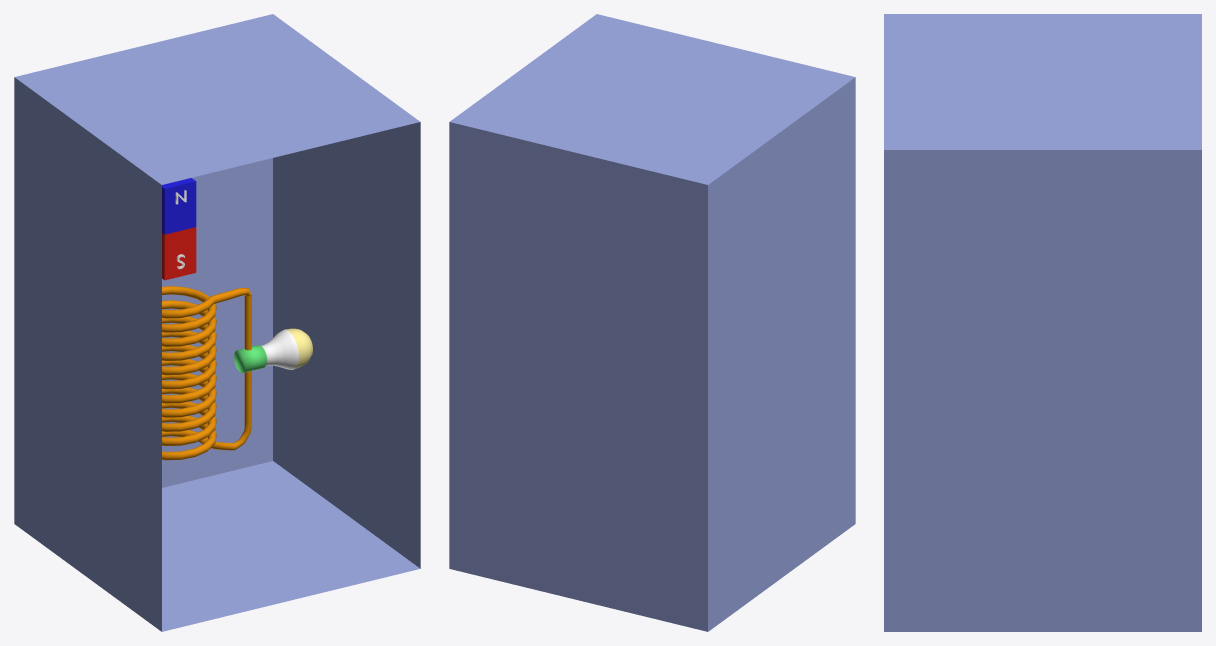
Rendered from coilBake.gltf.
The picture shows the model from 3 angles, left to right: view 1: azimuth 30°, elevation 25°; view 2: azimuth 150°, elevation 25°; view 3: azimuth 270°, elevation 25°; orthographic projection. The views are drawn at different scales.
Visible parts, largest first — view 1: BoxScene, Coil, Magnet, Lamp; view 2: BoxScene; view 3: BoxScene.
Part boxes in pixels (left/top/right/bottom): BoxScene: left=14, top=14, right=420, bottom=631; Coil: left=162, top=286, right=251, bottom=460; Magnet: left=162, top=178, right=196, bottom=280; Lamp: left=234, top=328, right=312, bottom=373; BoxScene: left=449, top=14, right=855, bottom=631; BoxScene: left=884, top=14, right=1201, bottom=631.
Size of the model in its own units: 25.13 by 41.48 by 24.81.
